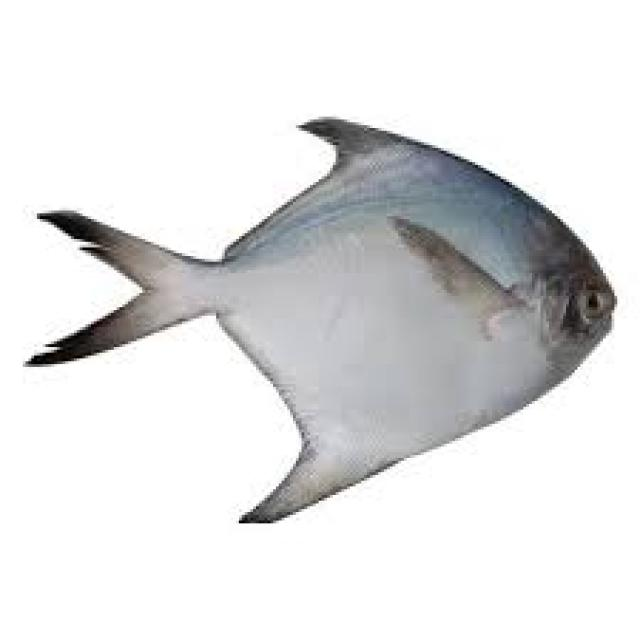pomfred: (33, 117, 618, 526)
